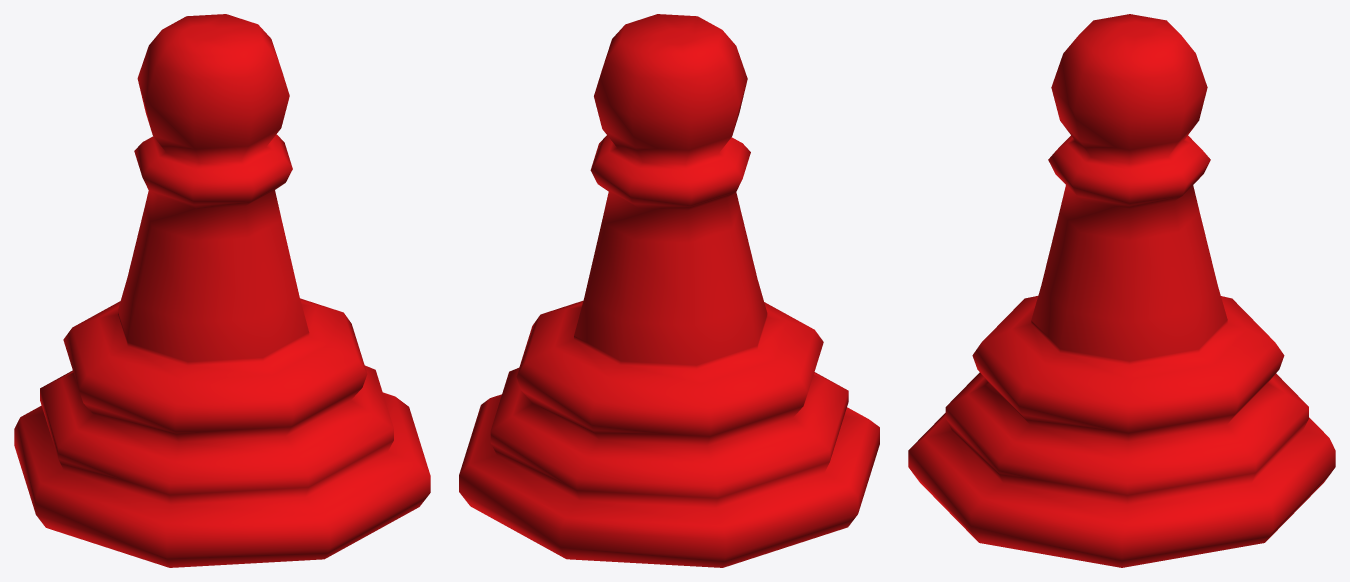
The model's file is engel.fbx.
The picture shows the model from 3 angles, left to right: view 1: azimuth 30°, elevation 25°; view 2: azimuth 150°, elevation 25°; view 3: azimuth 270°, elevation 25°; orthographic projection.
Visible parts, largest first — view 1: Circle; view 2: Circle; view 3: Circle.
Boxes of the visible parts, x1,y1,x2,y2 form: Circle: (14,14,430,567); Circle: (459,14,879,567); Circle: (908,14,1335,567).
Size of the model in its own units: 211 by 244 by 211.
